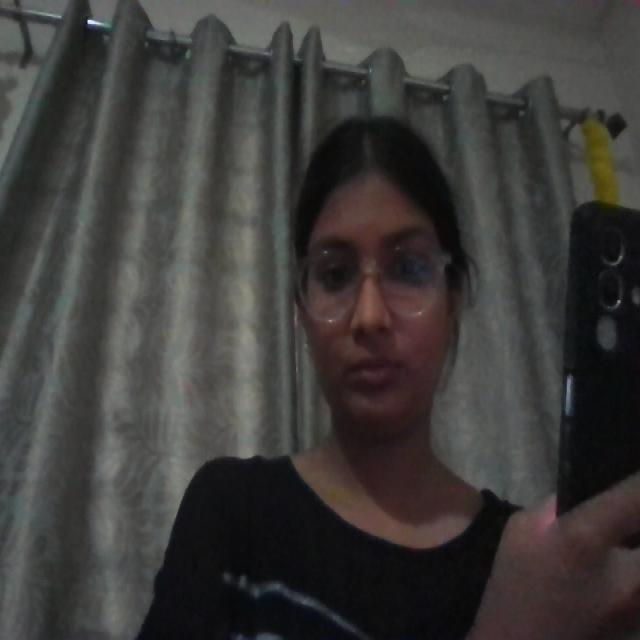phone: (556, 201, 639, 513)
